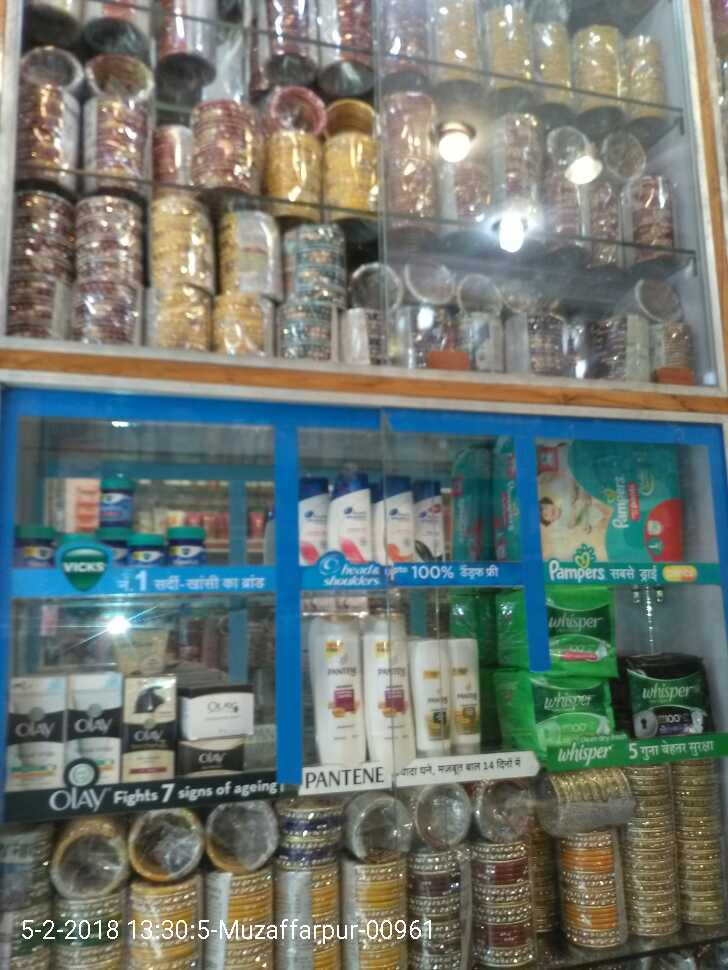vicks: (6, 475, 219, 584)
